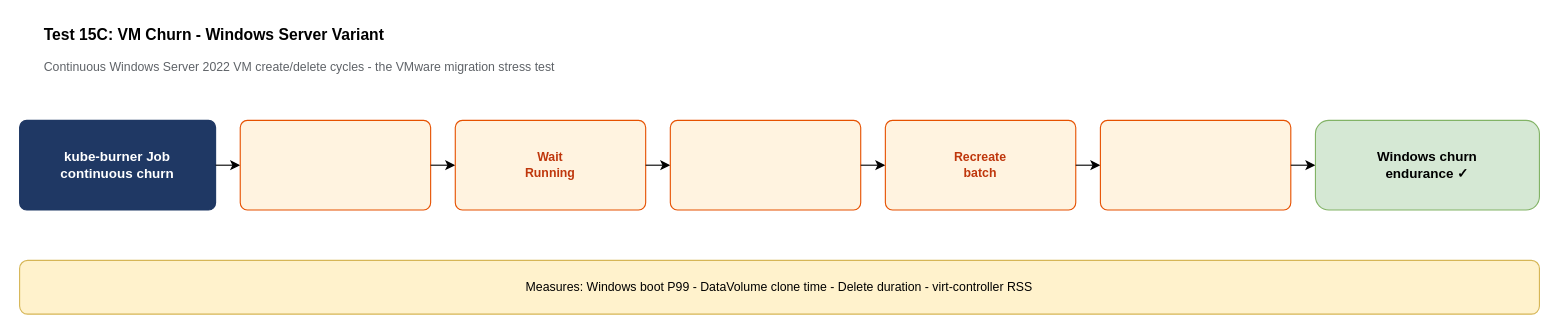
The diagram is 1559 pixels wide and 334 high, and some of its shapes have lost their labels. Here are the shapes that lost their labels. From the top down, the centre of each, then its label:
At [335,164]: "Create Win VMs".
At [765,164]: "Delete all VMs".
At [1195,164]: "Final delete".
